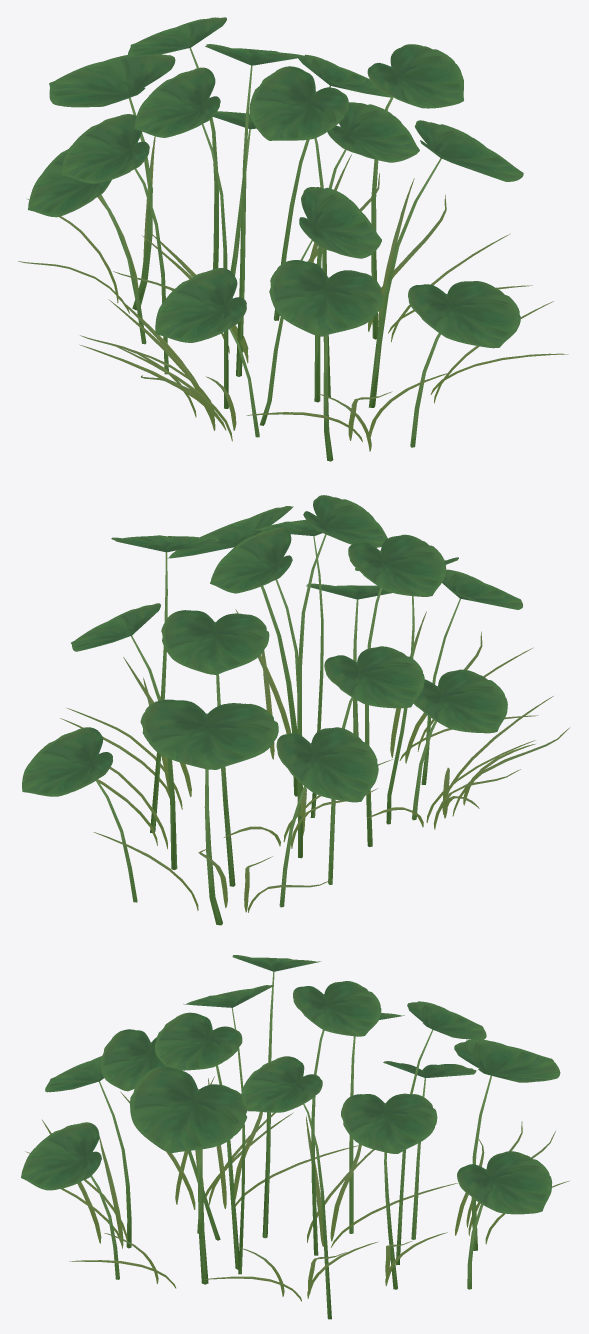
Rendered from SM_EastLands_CirclePlant_02.fbx.
3 renders of one model, top to bottom at view 1: azimuth 30°, elevation 25°; view 2: azimuth 150°, elevation 25°; view 3: azimuth 270°, elevation 25°, orthographic. The views are drawn at different scales.
Visible parts, largest first — view 1: SM_EastLands_CirclePlant_02_LOD0; view 2: SM_EastLands_CirclePlant_02_LOD0; view 3: SM_EastLands_CirclePlant_02_LOD0.
Boxes of the visible parts, box(x1,y1,x2,y2) form: SM_EastLands_CirclePlant_02_LOD0: box(18, 17, 568, 461); SM_EastLands_CirclePlant_02_LOD0: box(22, 495, 569, 925); SM_EastLands_CirclePlant_02_LOD0: box(21, 955, 569, 1319).
Size of the model in its own units: 86.13 by 63.37 by 114.
